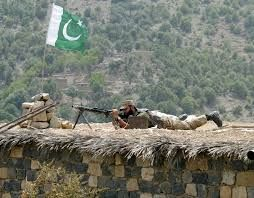gun: (58, 97, 114, 122)
uniform: (116, 99, 224, 132)
